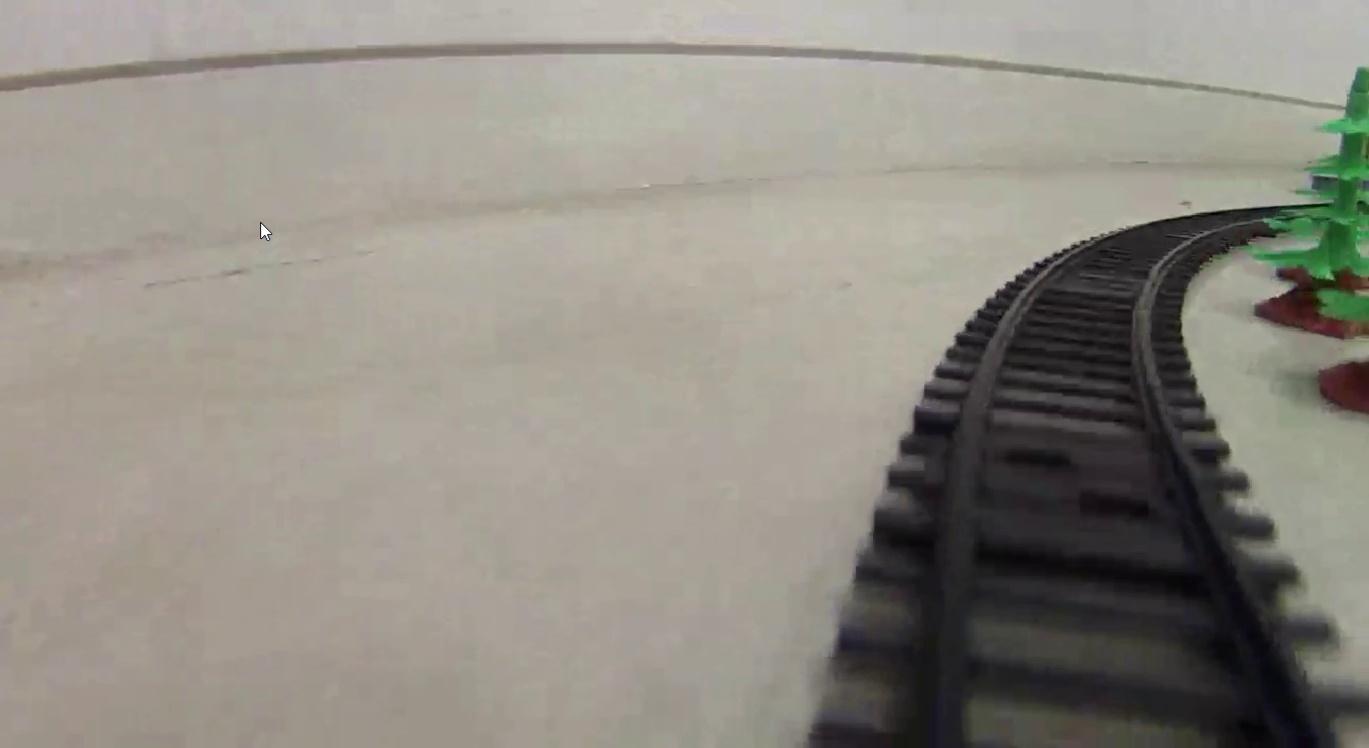tree: (1256, 69, 1369, 343)
